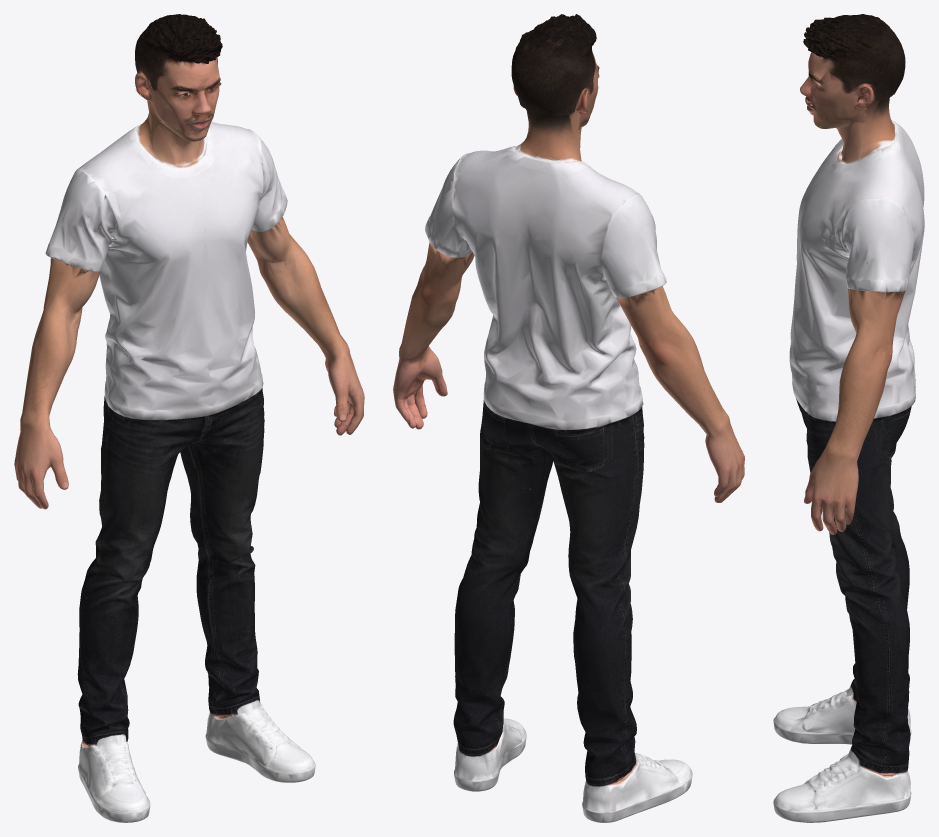
Rendered from tee-man.glb.
The picture shows the model from 3 angles, left to right: view 1: azimuth 30°, elevation 25°; view 2: azimuth 150°, elevation 25°; view 3: azimuth 270°, elevation 25°; orthographic projection.
Size of the model in its own units: 0.4683 by 1 by 0.181.
2 materials, 2 textured.
